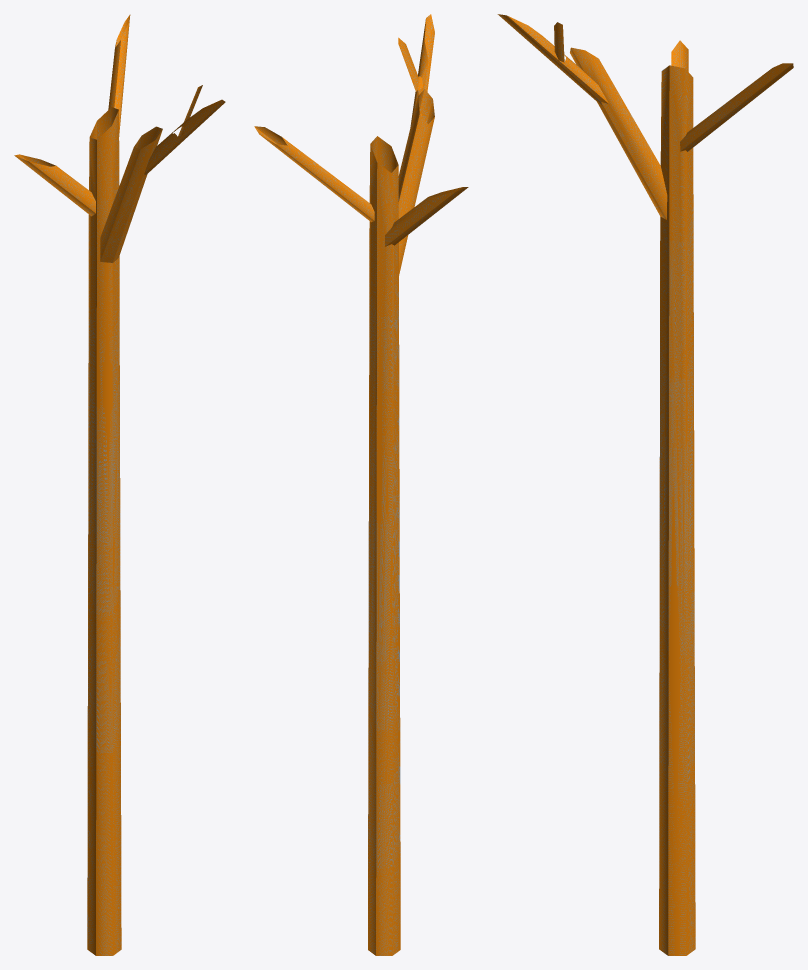
Rendered from Pinetree_wood(orange).obj.
3 views of the same model, side by side, from view 1: azimuth 30°, elevation 25°; view 2: azimuth 150°, elevation 25°; view 3: azimuth 270°, elevation 25° (orthographic). The views are drawn at different scales.
Parts seen in each view (by area): view 1: Mesh1 Group1 Model; view 2: Mesh1 Group1 Model; view 3: Mesh1 Group1 Model.
Boxes of the visible parts, <box> form: Mesh1 Group1 Model: <box>14,14,225,955</box>; Mesh1 Group1 Model: <box>254,14,468,955</box>; Mesh1 Group1 Model: <box>497,14,793,955</box>.
Size of the model in its own units: 2090 by 10604 by 2986.
